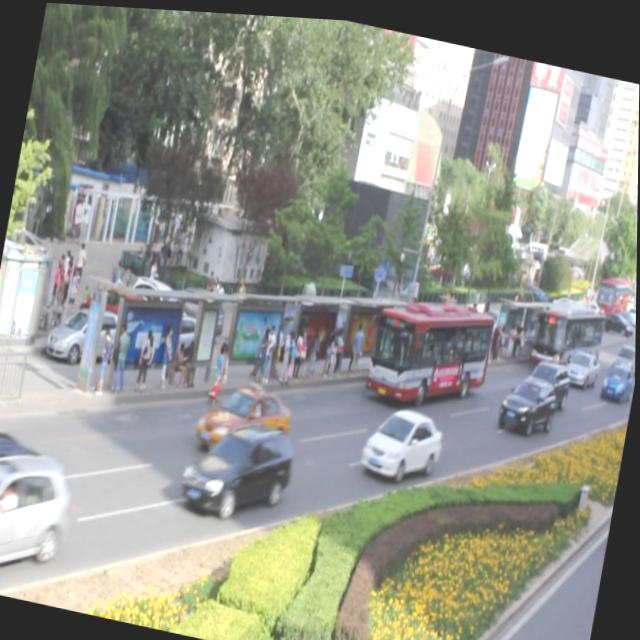car: (181, 408, 296, 523), (0, 446, 78, 587), (196, 369, 296, 457), (359, 394, 447, 481), (0, 421, 54, 519), (499, 366, 558, 428), (517, 348, 573, 405), (562, 339, 601, 382), (601, 352, 636, 397)
van: (367, 283, 495, 408), (530, 290, 606, 369)
